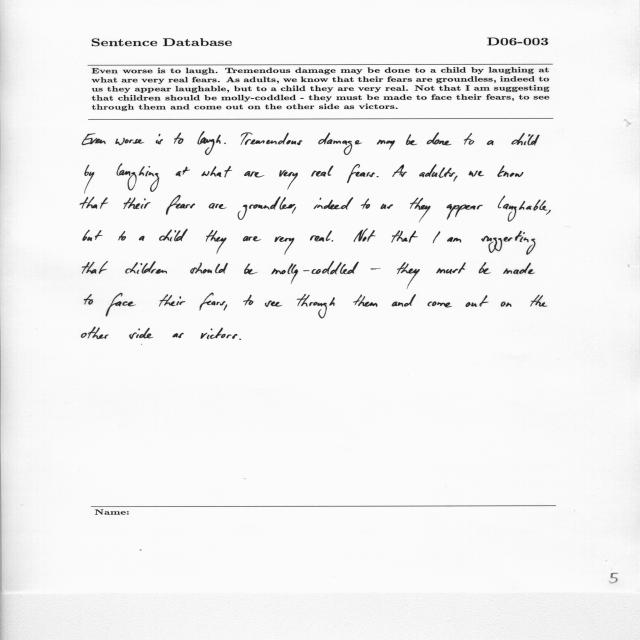word: (271, 261, 359, 284), (238, 196, 296, 220), (482, 231, 536, 255), (498, 196, 547, 222), (116, 164, 160, 192), (319, 133, 363, 155), (297, 294, 335, 319), (241, 133, 303, 146), (106, 293, 136, 316), (397, 262, 420, 289), (446, 204, 483, 220), (166, 195, 195, 215), (197, 131, 221, 155), (125, 261, 167, 274), (347, 164, 375, 183), (314, 197, 354, 210), (419, 164, 455, 178), (206, 230, 226, 254), (410, 198, 430, 221), (200, 293, 226, 310), (190, 263, 228, 274), (201, 328, 238, 339), (279, 170, 298, 190), (275, 236, 295, 255), (80, 196, 108, 209), (436, 262, 466, 274), (503, 263, 535, 274), (391, 230, 418, 243), (159, 229, 188, 241), (201, 166, 232, 177), (82, 261, 108, 274), (159, 294, 185, 307), (512, 133, 540, 145), (81, 327, 109, 339), (427, 133, 452, 146), (353, 294, 377, 307), (392, 294, 416, 307), (123, 198, 151, 209), (497, 166, 524, 177), (354, 229, 376, 242), (83, 134, 106, 146), (466, 295, 489, 307), (129, 328, 153, 339), (85, 165, 94, 193), (311, 166, 333, 177), (310, 231, 332, 242), (83, 230, 103, 241), (531, 295, 548, 307), (115, 138, 144, 145), (377, 140, 395, 150), (392, 165, 407, 177), (479, 262, 491, 274), (428, 302, 452, 308), (244, 264, 257, 275), (176, 167, 190, 177), (406, 135, 417, 146), (464, 133, 474, 145), (244, 171, 264, 177), (265, 300, 282, 307), (174, 133, 184, 144), (243, 295, 254, 305), (209, 203, 227, 209), (361, 198, 370, 209), (84, 294, 93, 305), (469, 171, 484, 177), (243, 236, 261, 241), (433, 231, 440, 243), (447, 237, 461, 243), (118, 231, 126, 241), (156, 134, 163, 144), (380, 204, 393, 209), (172, 333, 184, 338), (501, 302, 512, 307), (487, 140, 494, 145), (453, 176, 458, 182), (292, 207, 296, 214), (546, 210, 551, 215), (139, 236, 144, 241), (371, 268, 381, 270), (224, 305, 227, 311), (332, 240, 334, 242), (239, 338, 241, 340), (376, 176, 379, 177), (224, 143, 226, 144)
